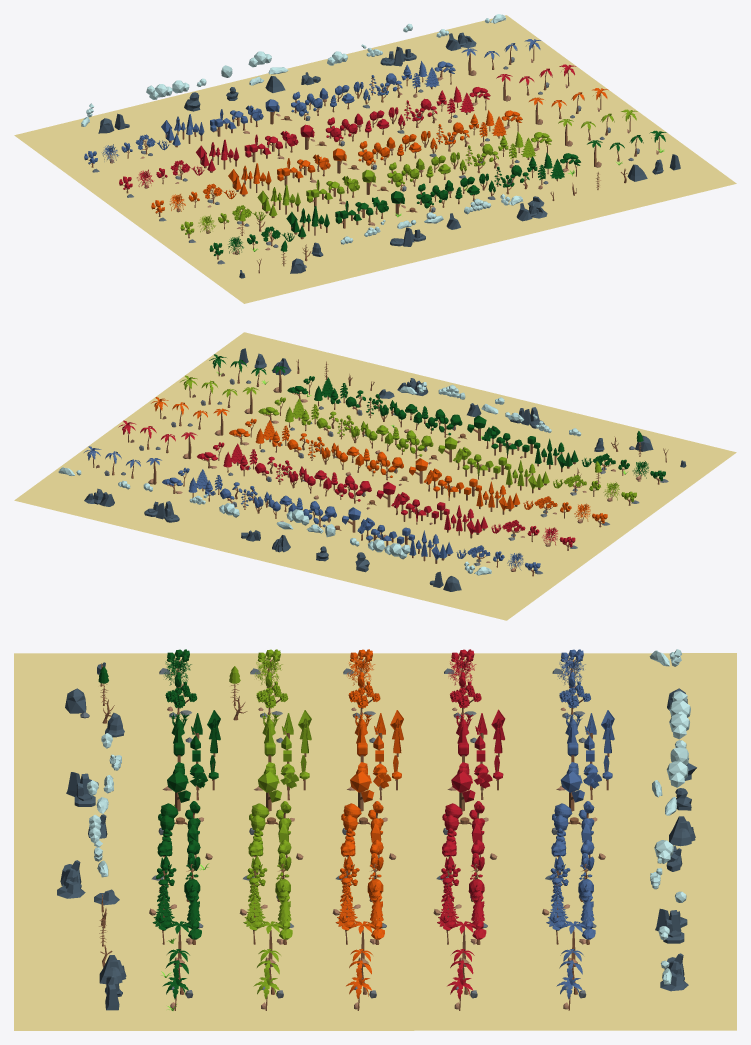
File: polygon-tree-pack.glb
3 views of the same model, one above another, from view 1: azimuth 30°, elevation 25°; view 2: azimuth 150°, elevation 25°; view 3: azimuth 270°, elevation 25° (orthographic). The views are drawn at different scales.
Visible parts, largest first — view 1: Plane.002_49, cloud 12_34; view 2: Plane.002_49, cloud 12_34; view 3: Plane.002_49, cloud 12_34, Rock 6_540, Rock 17_532, Rock 4_541, Stone 5_546, Stone 2_543, Stone 4_545.
Boxes of the visible parts, x1=… form: Plane.002_49: x1=14, y1=15, x2=736, y2=303; cloud 12_34: x1=146, y1=80, x2=189, y2=99; Plane.002_49: x1=14, y1=332, x2=736, y2=620; cloud 12_34: x1=368, y1=539, x2=410, y2=559; Plane.002_49: x1=14, y1=653, x2=736, y2=1030; cloud 12_34: x1=669, y1=691, x2=690, y2=739; Rock 6_540: x1=57, y1=860, x2=85, y2=898; Rock 17_532: x1=655, y1=908, x2=687, y2=943; Rock 4_541: x1=66, y1=772, x2=98, y2=806; Stone 5_546: x1=542, y1=668, x2=605, y2=1009; Stone 2_543: x1=239, y1=668, x2=303, y2=1009; Stone 4_545: x1=433, y1=668, x2=497, y2=1009.
Size of the model in its own units: 53.38 by 4.55 by 43.19.
